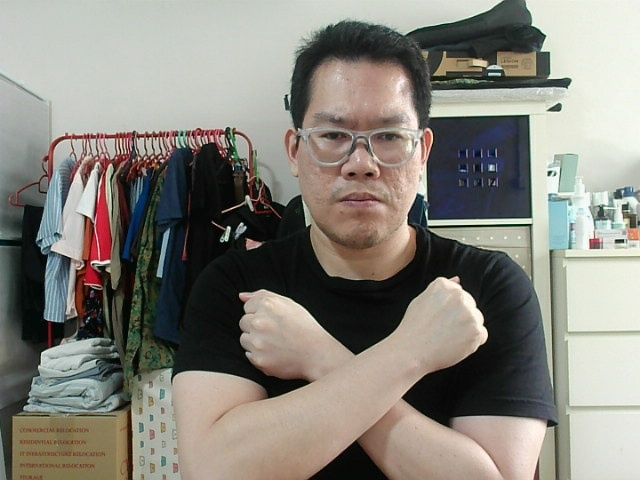love: (406, 283, 482, 349)
